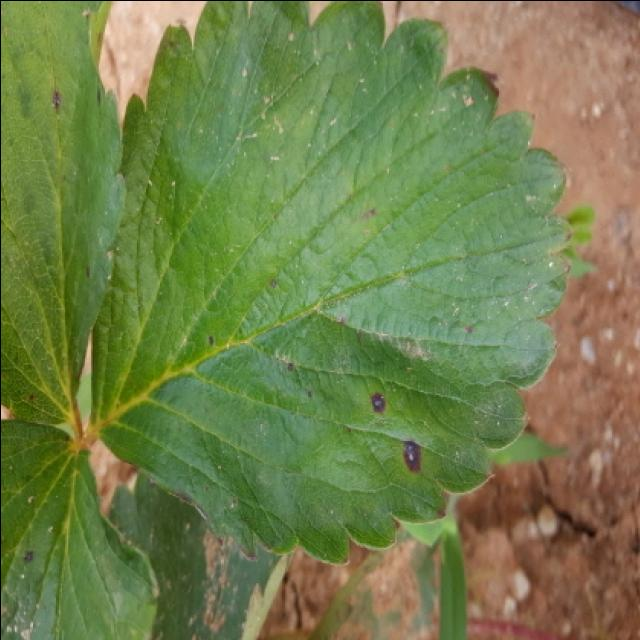Leaf Spot: (89, 2, 572, 566), (0, 2, 126, 423), (0, 417, 158, 640)
